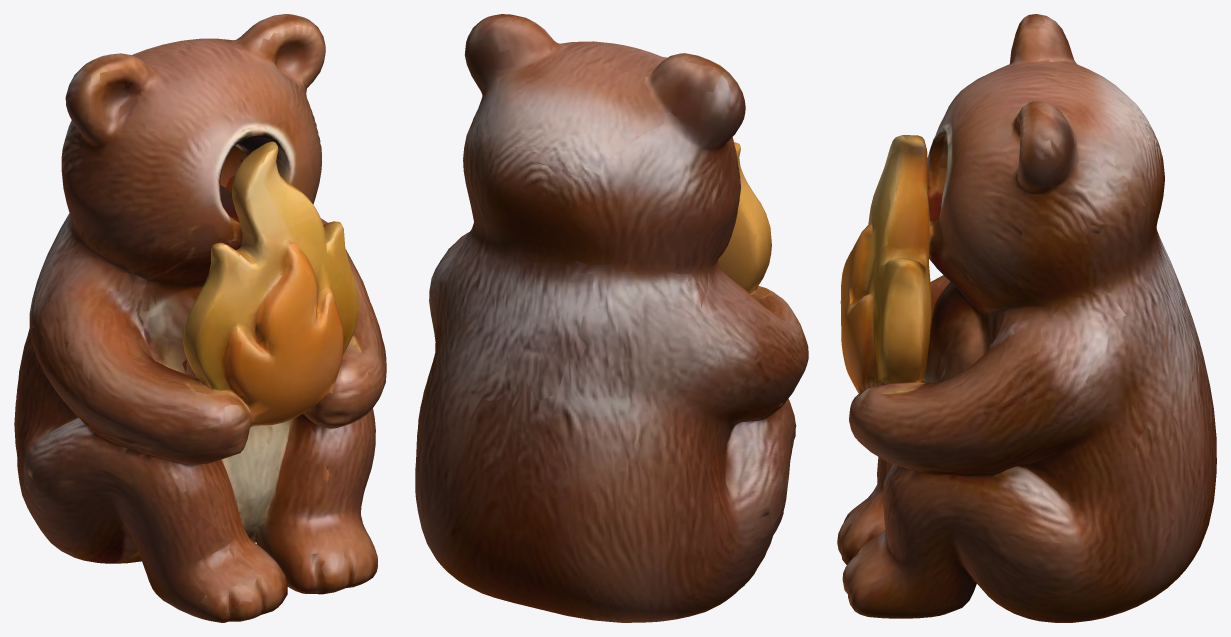
File: sc-flame-keeper.glb
The picture shows the model from 3 angles, left to right: view 1: azimuth 30°, elevation 25°; view 2: azimuth 150°, elevation 25°; view 3: azimuth 270°, elevation 25°; orthographic projection. The views are drawn at different scales.
Visible parts, largest first — view 1: geometry_0; view 2: geometry_0; view 3: geometry_0.
Boxes of the visible parts, <box> form: geometry_0: <box>14,14,386,622</box>; geometry_0: <box>415,14,808,622</box>; geometry_0: <box>837,14,1216,622</box>.
Bounding box in the file's own units: 0.6598 × 1 × 0.6718.
1 material, 1 textured.
